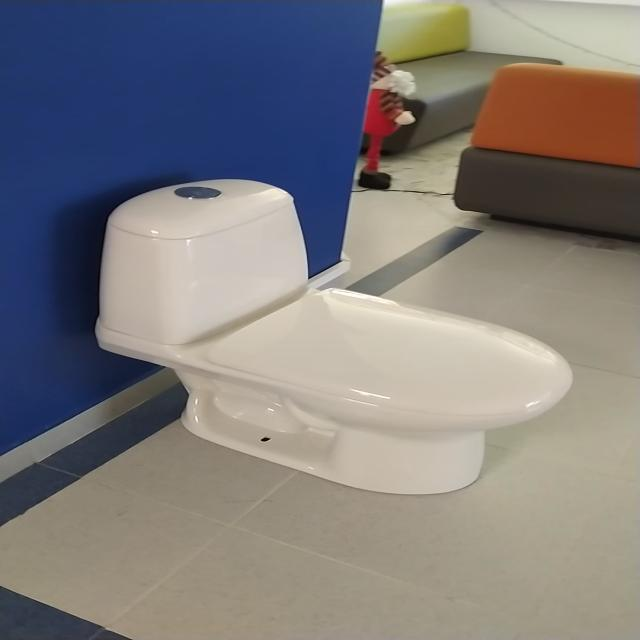toilet: (86, 168, 578, 498)
